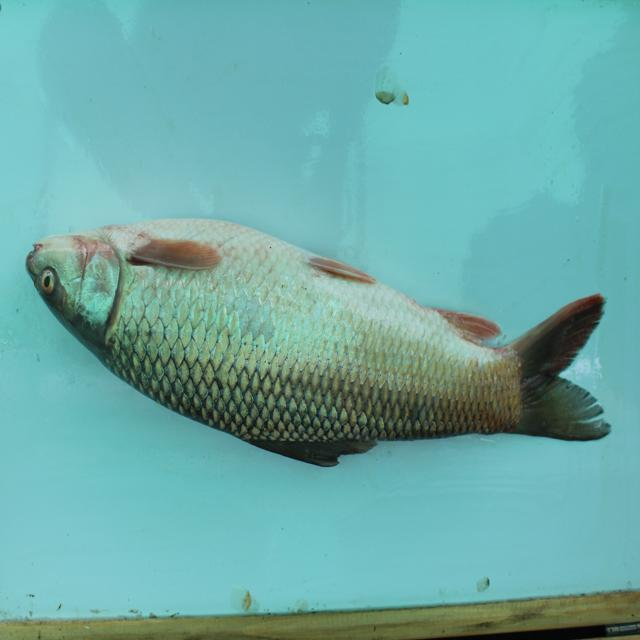Mori: (21, 215, 616, 498)
